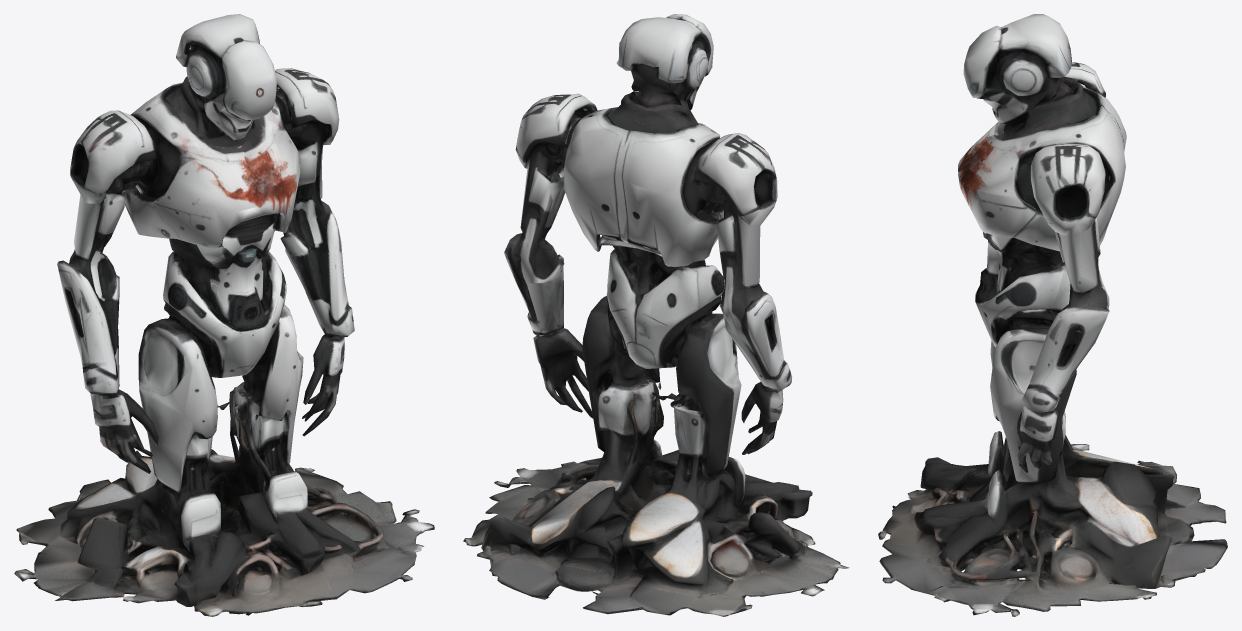
Rendered from Meshy_AI_Damaged_Security_Droid_source.glb.
The picture shows the model from 3 angles, left to right: view 1: azimuth 30°, elevation 25°; view 2: azimuth 150°, elevation 25°; view 3: azimuth 270°, elevation 25°; orthographic projection. The views are drawn at different scales.
Bounding box in the file's own units: 1.46 × 2 × 1.25.
Materials: 1 (1 with a texture image).
